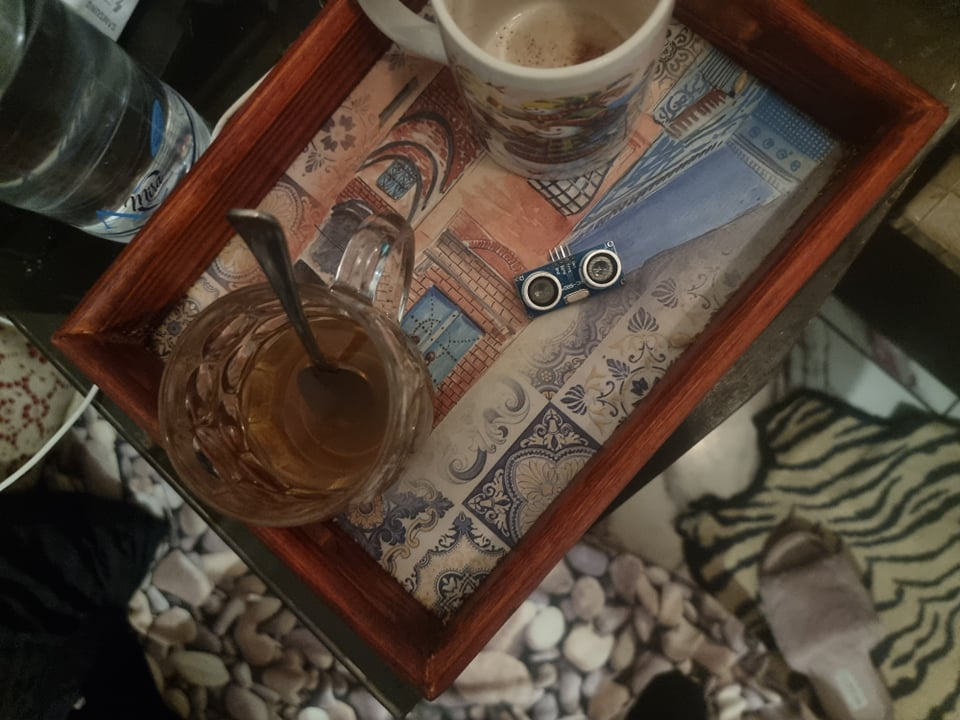SENSOR: (514, 239, 622, 314)
